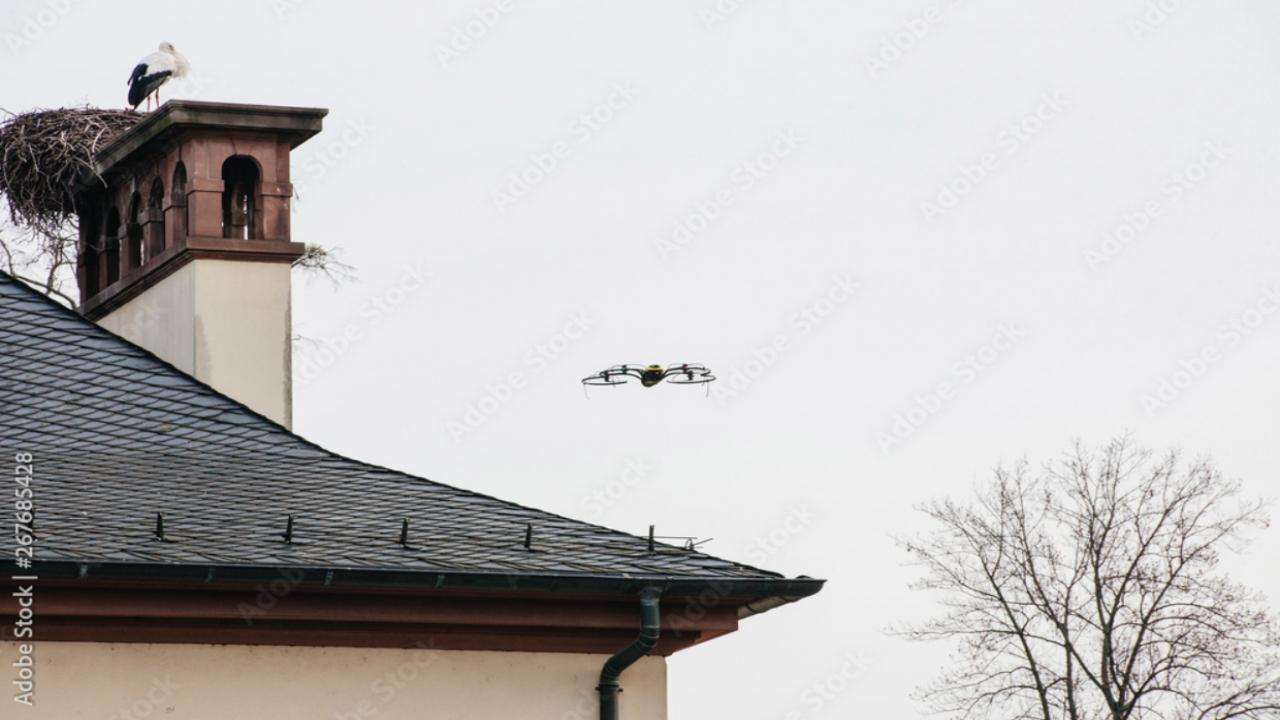Bird: (113, 29, 200, 112)
Drone: (568, 337, 732, 414)
